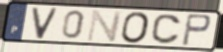0: (61, 8, 86, 41)
C: (150, 13, 183, 46)
N: (85, 9, 125, 43)
O: (120, 11, 152, 45)
P: (180, 13, 213, 48)
V: (31, 7, 60, 41)
